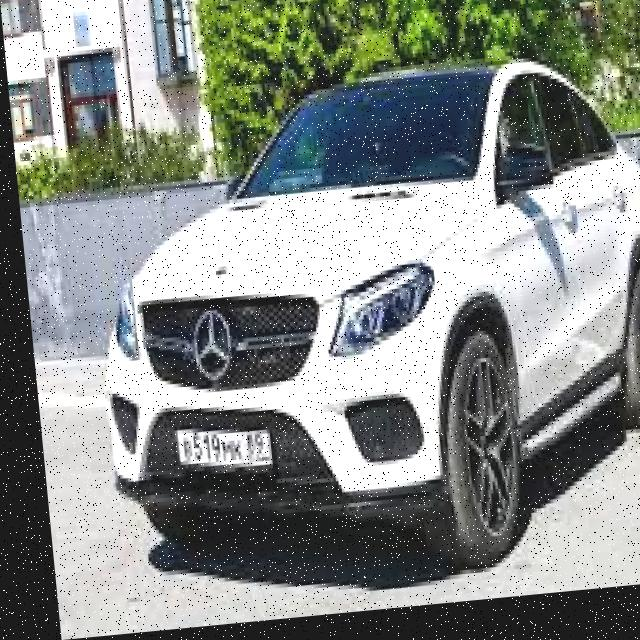car: (81, 48, 640, 573)
